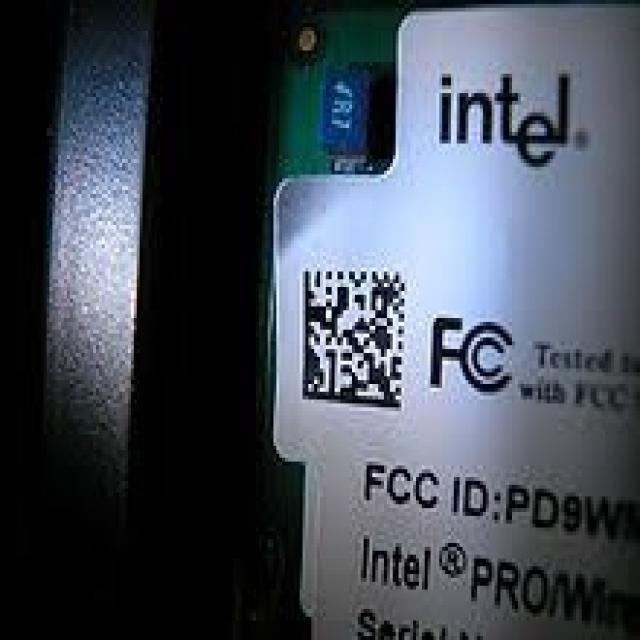datamatrix: (294, 256, 413, 419)
